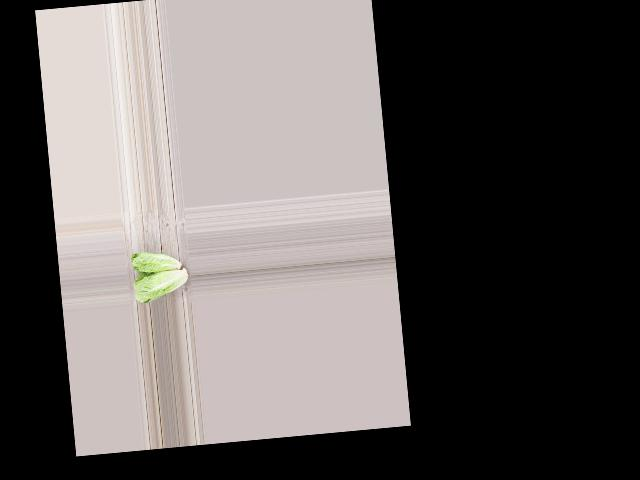lettuce: (130, 267, 192, 305)
